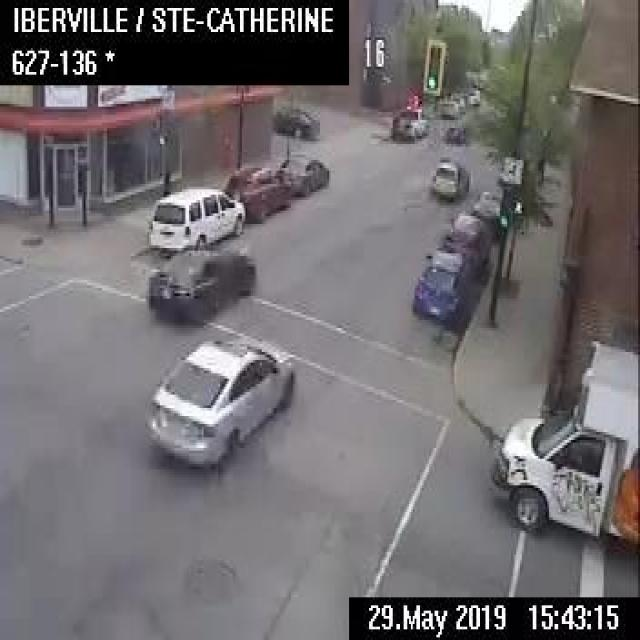vehicle: (489, 330, 638, 549), (144, 334, 296, 469), (145, 246, 257, 320), (146, 184, 245, 252), (409, 248, 474, 327), (223, 164, 290, 220), (276, 152, 328, 195), (438, 228, 480, 275), (449, 212, 490, 256), (470, 187, 506, 232), (429, 157, 469, 197), (271, 105, 318, 136), (389, 106, 427, 140), (442, 119, 462, 141), (438, 98, 457, 116), (449, 90, 465, 111), (465, 86, 479, 104)
